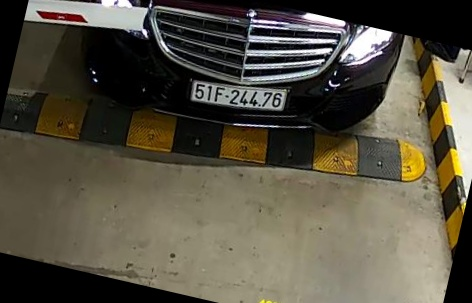plate: (187, 72, 293, 122)
